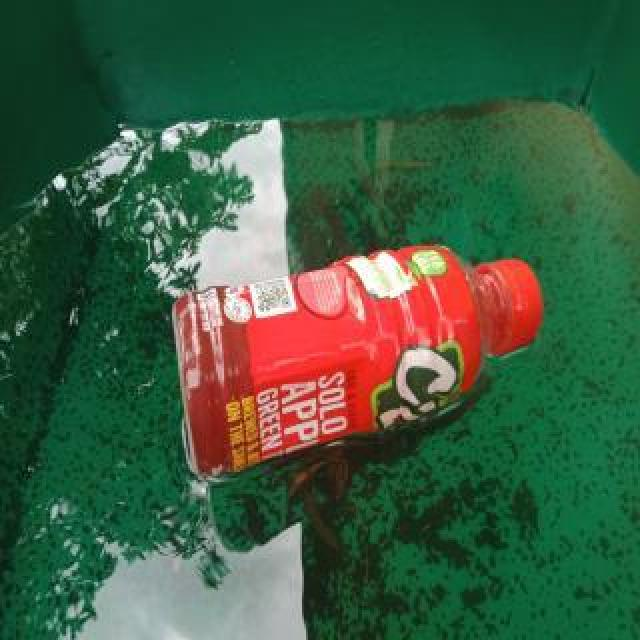bottle: (172, 240, 544, 478)
